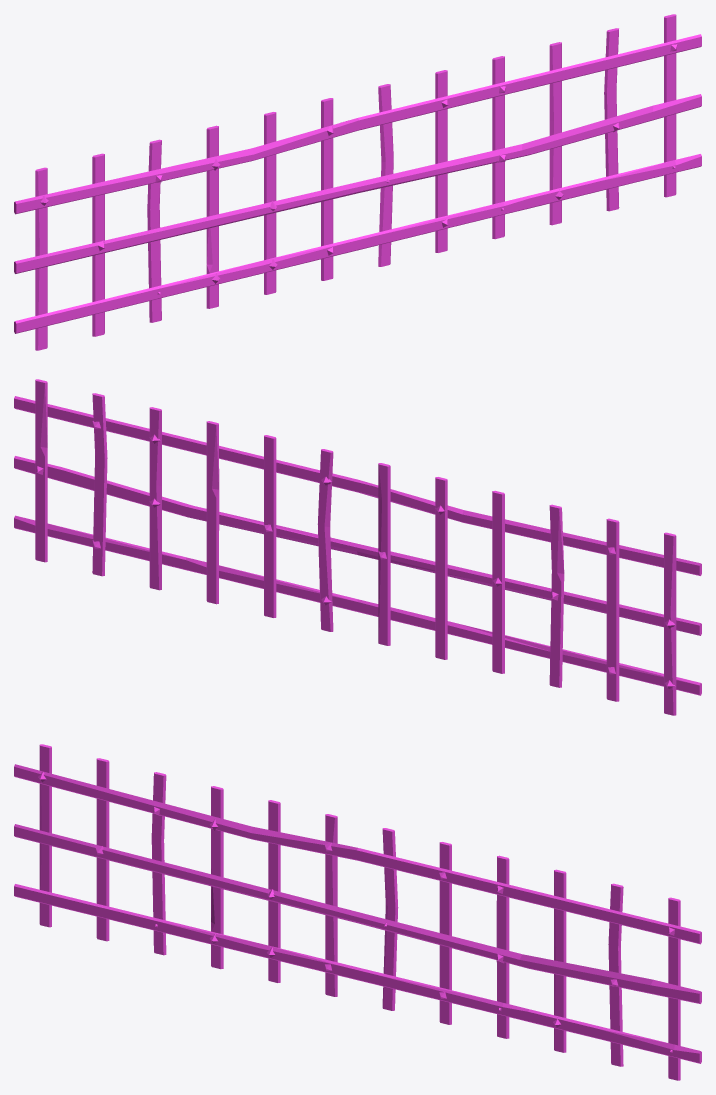
File: SM_Wall_Bars_4x1m_Fantasy.fbx
The picture shows the model from 3 angles, top to bottom: view 1: azimuth 30°, elevation 25°; view 2: azimuth 150°, elevation 25°; view 3: azimuth 330°, elevation 25°; orthographic projection.
Visible parts, largest first — view 1: SM_Wall_Bars_4x1m_Fantasy; view 2: SM_Wall_Bars_4x1m_Fantasy; view 3: SM_Wall_Bars_4x1m_Fantasy.
Part boxes in pixels (bbox=[...]): SM_Wall_Bars_4x1m_Fantasy: bbox=[14, 14, 701, 350]; SM_Wall_Bars_4x1m_Fantasy: bbox=[14, 379, 701, 715]; SM_Wall_Bars_4x1m_Fantasy: bbox=[14, 744, 701, 1080].
Bounding box in the file's own units: 4 × 1 × 0.0903.
